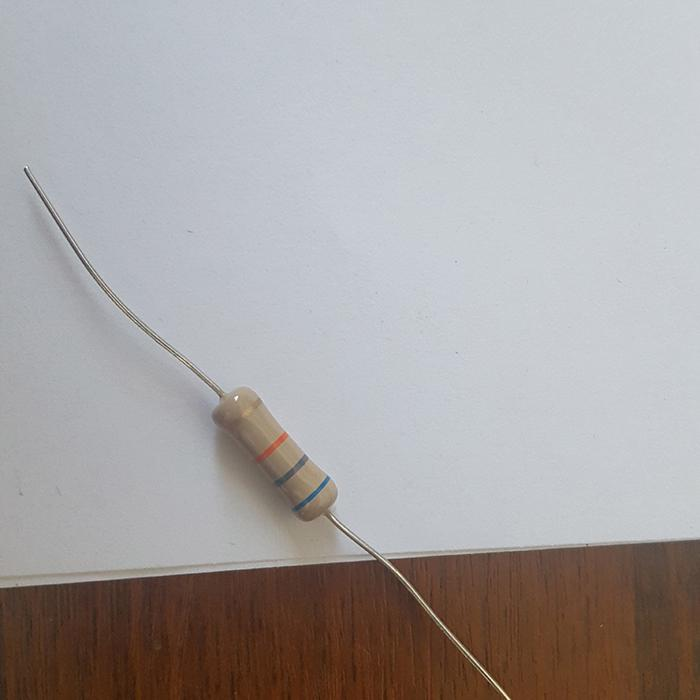resistor: (211, 386, 337, 519)
